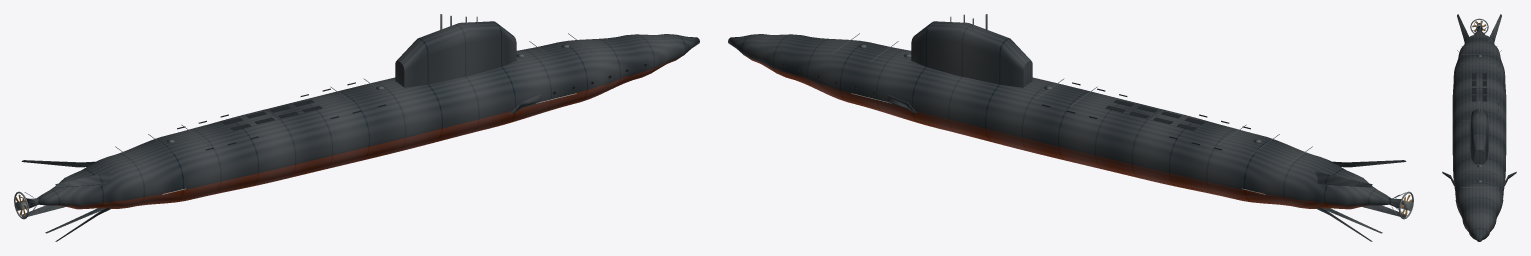
File: RU_SSN_Yasen_LOD0.fbx
The picture shows the model from 3 angles, left to right: view 1: azimuth 30°, elevation 25°; view 2: azimuth 150°, elevation 25°; view 3: azimuth 270°, elevation 25°; orthographic projection. The views are drawn at different scales.
Parts seen in each view (by area): view 1: RU_SSN_Yasen_LOD0; view 2: RU_SSN_Yasen_LOD0; view 3: RU_SSN_Yasen_LOD0.
Part boxes in pixels (<box>): RU_SSN_Yasen_LOD0: <box>14,14,699,241</box>; RU_SSN_Yasen_LOD0: <box>728,14,1413,241</box>; RU_SSN_Yasen_LOD0: <box>1442,14,1516,241</box>.
Size of what is drawn, in the model's own units: 123 by 18 by 21.15.
